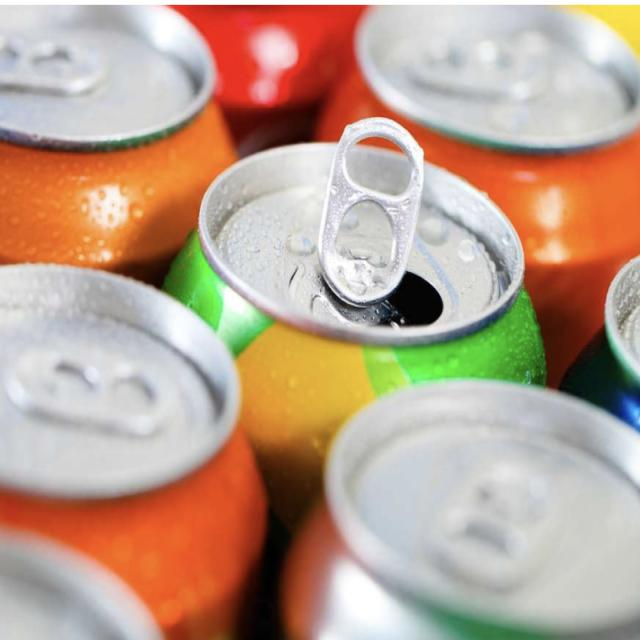recyclable: (124, 110, 570, 472)
